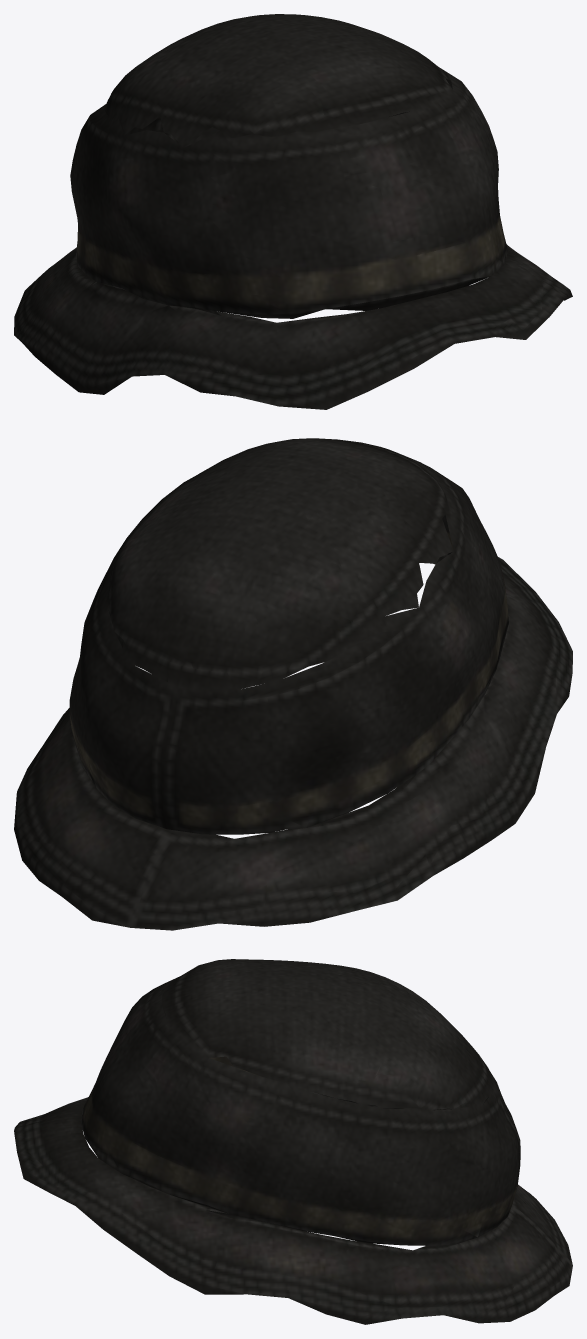
The model's file is wear_bucket.glb.
3 renders of one model, top to bottom at view 1: azimuth 30°, elevation 25°; view 2: azimuth 150°, elevation 25°; view 3: azimuth 270°, elevation 25°, orthographic. The views are drawn at different scales.
Visible parts, largest first — view 1: mesh; view 2: mesh; view 3: mesh.
Boxes of the visible parts, box(x1,y1,x2,y2) form: mesh: box(14, 14, 572, 409); mesh: box(14, 438, 572, 930); mesh: box(14, 959, 572, 1324).
Size of the model in its own units: 0.1612 by 0.12 by 0.2105.
1 material, 1 textured.
